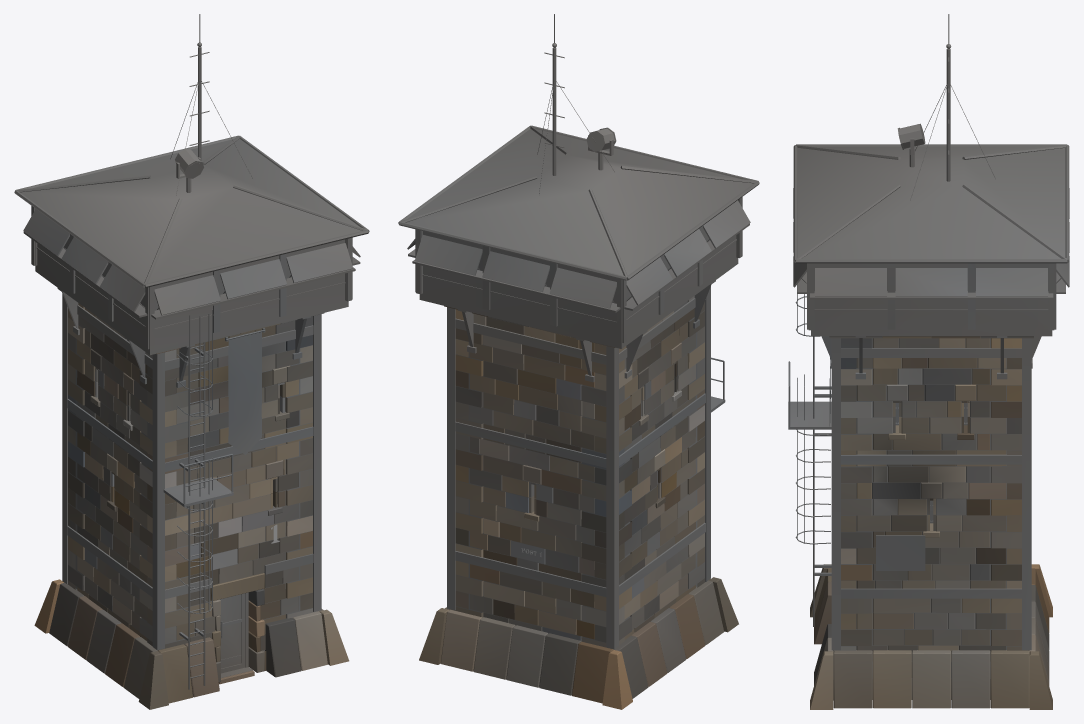
File: Watchtower_LOD1.glb
3 views of the same model, side by side, from view 1: azimuth 30°, elevation 25°; view 2: azimuth 150°, elevation 25°; view 3: azimuth 270°, elevation 25° (orthographic). The views are drawn at different scales.
Parts seen in each view (by area): view 1: Watchtower_Masonry_LOD1, Watchtower_Metal_LOD1, Watchtower_Roof_LOD1, Watchtower_Trim_LOD1, Watchtower_Canvas_LOD1, Watchtower_Hardware_LOD1; view 2: Watchtower_Masonry_LOD1, Watchtower_Metal_LOD1, Watchtower_Roof_LOD1, Watchtower_Trim_LOD1; view 3: Watchtower_Masonry_LOD1, Watchtower_Metal_LOD1, Watchtower_Roof_LOD1, Watchtower_Trim_LOD1.
Boxes of the visible parts, x1,y1,x2,y2 form: Watchtower_Masonry_LOD1: (68,303,318,670); Watchtower_Metal_LOD1: (14,14,369,689); Watchtower_Roof_LOD1: (20,139,361,283); Watchtower_Trim_LOD1: (34,312,349,709); Watchtower_Canvas_LOD1: (228,332,261,454); Watchtower_Hardware_LOD1: (190,344,203,678); Watchtower_Masonry_LOD1: (450,296,705,649); Watchtower_Metal_LOD1: (398,14,759,649); Watchtower_Roof_LOD1: (406,129,753,275); Watchtower_Trim_LOD1: (419,306,738,709); Watchtower_Masonry_LOD1: (833,336,1029,700); Watchtower_Metal_LOD1: (788,14,1069,650); Watchtower_Roof_LOD1: (797,146,1065,258); Watchtower_Trim_LOD1: (810,336,1052,709).
Bounding box in the file's own units: 6.46 × 16.92 × 6.58.
